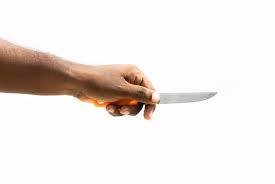Knife: (76, 90, 218, 106)
